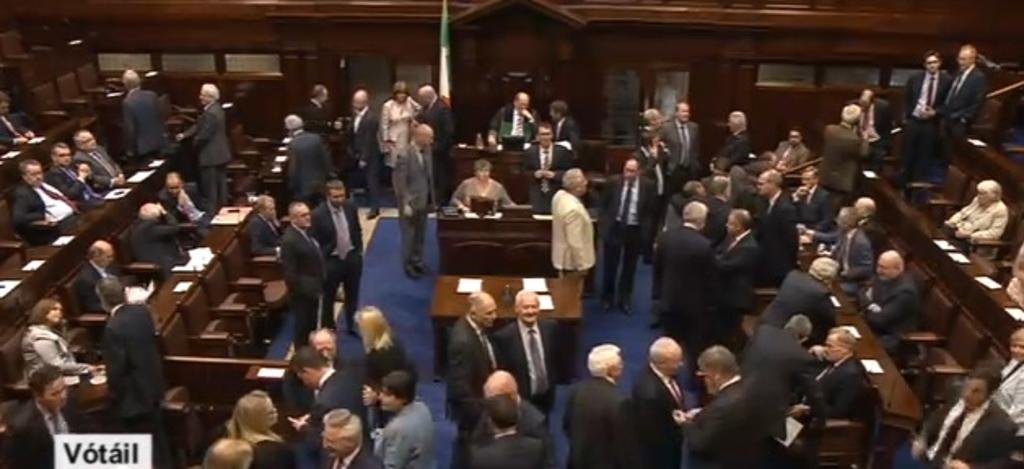face: (44, 377, 66, 408), (963, 378, 984, 408), (313, 336, 333, 365), (322, 426, 340, 457), (662, 346, 681, 375), (477, 299, 496, 326), (519, 296, 537, 322), (824, 333, 839, 360), (1008, 336, 1024, 361), (379, 388, 397, 410), (294, 368, 315, 386), (265, 398, 278, 424), (295, 206, 310, 227), (876, 259, 891, 279), (28, 165, 42, 186), (100, 244, 113, 266), (574, 173, 587, 194), (47, 303, 61, 322), (80, 133, 96, 149), (537, 128, 550, 146), (331, 189, 344, 207), (57, 148, 70, 165), (167, 179, 180, 196), (836, 211, 849, 228), (724, 215, 735, 235), (611, 356, 621, 377), (727, 116, 742, 130), (958, 49, 969, 68), (926, 56, 939, 72), (649, 134, 661, 150), (758, 176, 769, 193), (802, 172, 813, 188), (424, 129, 434, 146), (624, 162, 634, 179), (648, 115, 661, 128), (516, 96, 527, 110), (789, 130, 799, 145), (679, 104, 688, 120), (854, 202, 863, 218), (478, 168, 489, 181), (353, 93, 362, 108), (860, 95, 869, 109), (265, 202, 273, 217), (199, 89, 207, 104), (418, 92, 426, 105), (977, 191, 985, 204), (549, 108, 556, 121), (321, 88, 327, 102), (396, 92, 404, 102)
